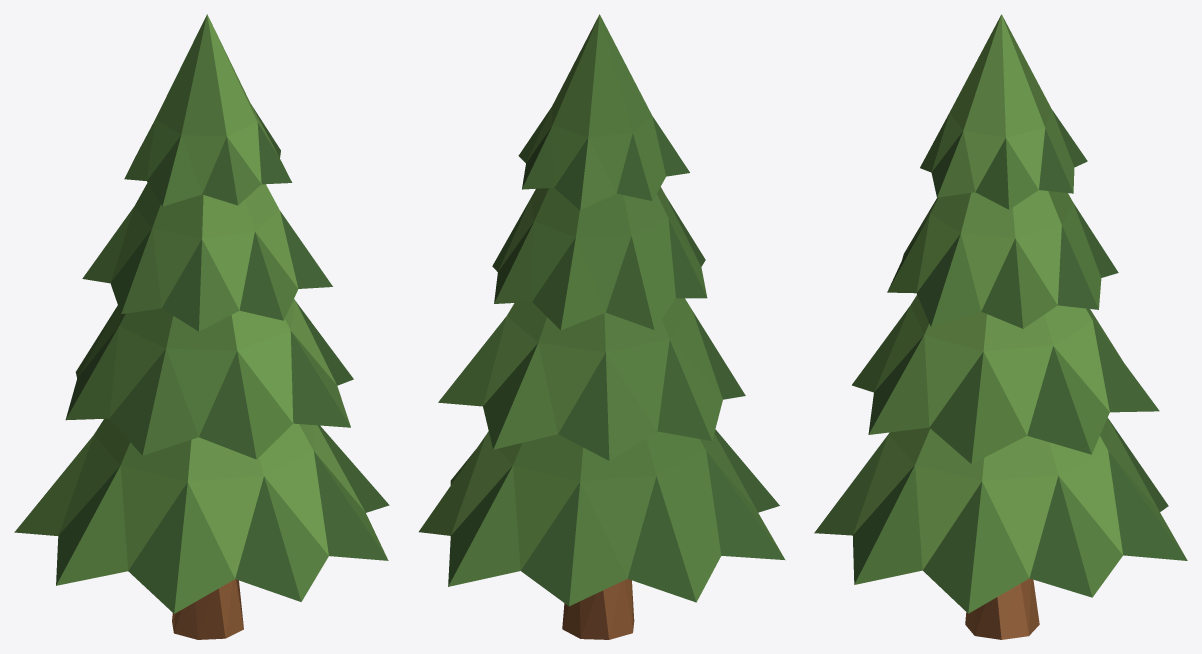
File: FMS_Tree_Spruce_L.fbx
3 renders of one model, left to right at view 1: azimuth 30°, elevation 25°; view 2: azimuth 150°, elevation 25°; view 3: azimuth 270°, elevation 25°, orthographic.
Parts seen in each view (by area): view 1: FMS_Tree_Spruce_L; view 2: FMS_Tree_Spruce_L; view 3: FMS_Tree_Spruce_L.
Part boxes in pixels (bbox=[...]): FMS_Tree_Spruce_L: bbox=[14, 14, 389, 639]; FMS_Tree_Spruce_L: bbox=[419, 14, 785, 639]; FMS_Tree_Spruce_L: bbox=[814, 14, 1187, 639].
Size of the model in its own units: 4.01 by 7 by 3.88.
